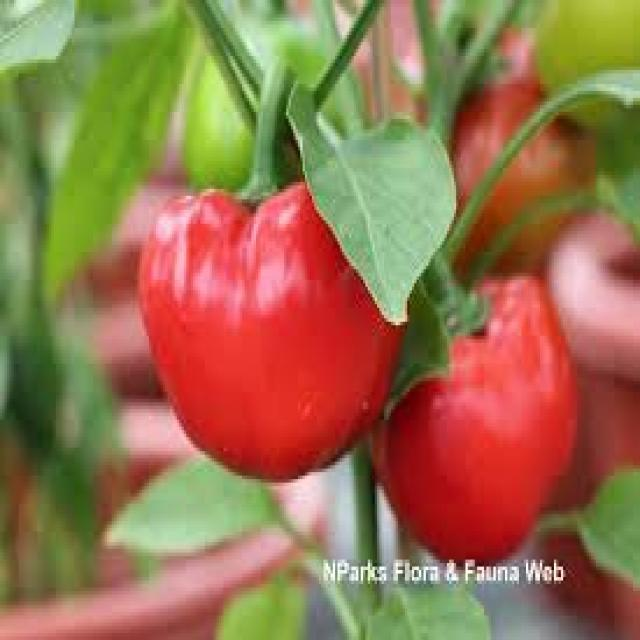Pepper: (138, 184, 406, 484), (362, 273, 604, 568)
